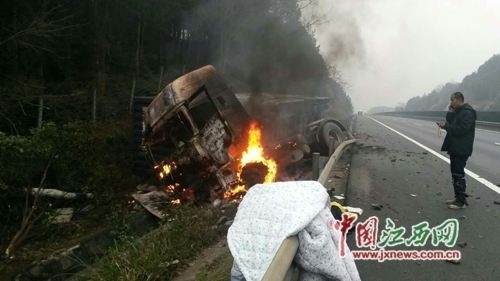fire: (228, 123, 279, 190), (154, 158, 184, 203)
